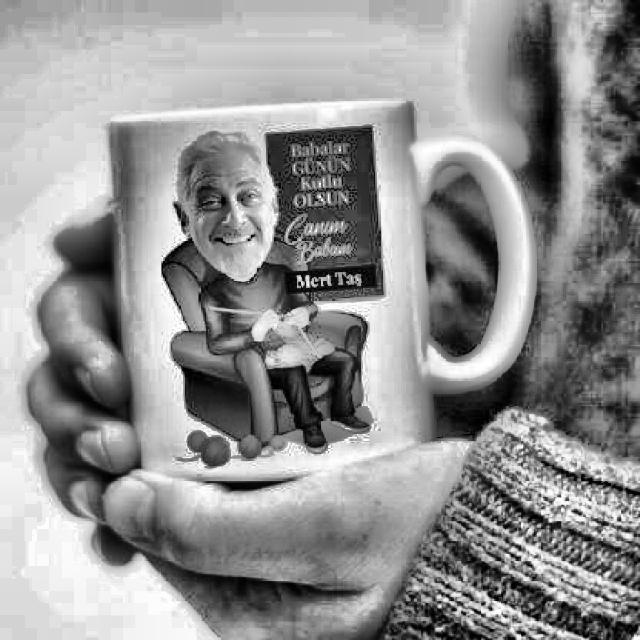Mug: (106, 98, 536, 484)
